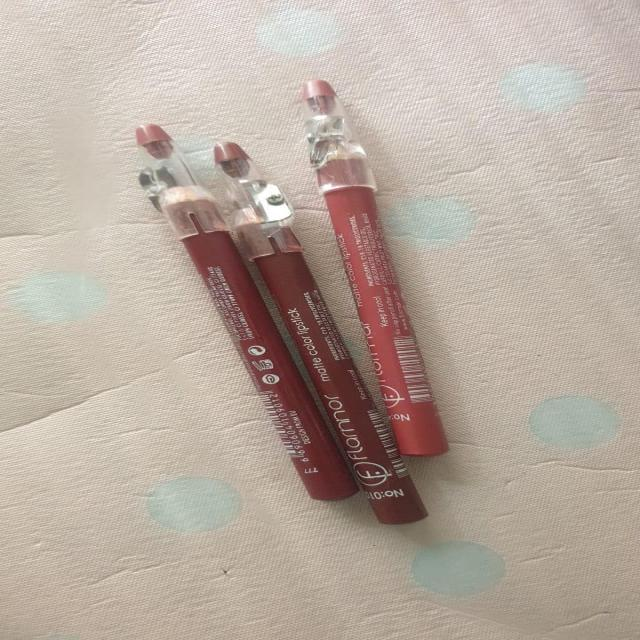lip liner: (123, 72, 492, 527)
